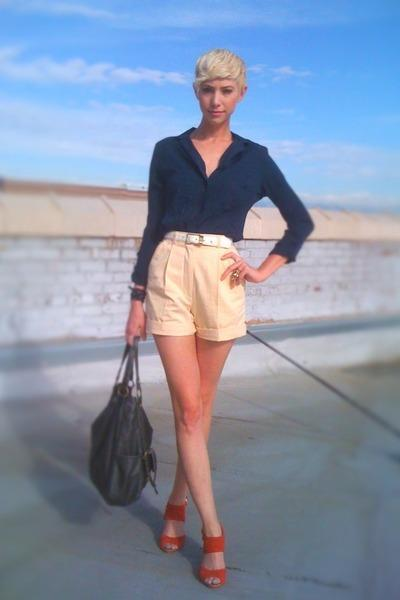bag: (88, 337, 156, 505)
shirt: (129, 132, 313, 299)
shoe: (156, 493, 227, 584)
shorts: (146, 236, 251, 340)
